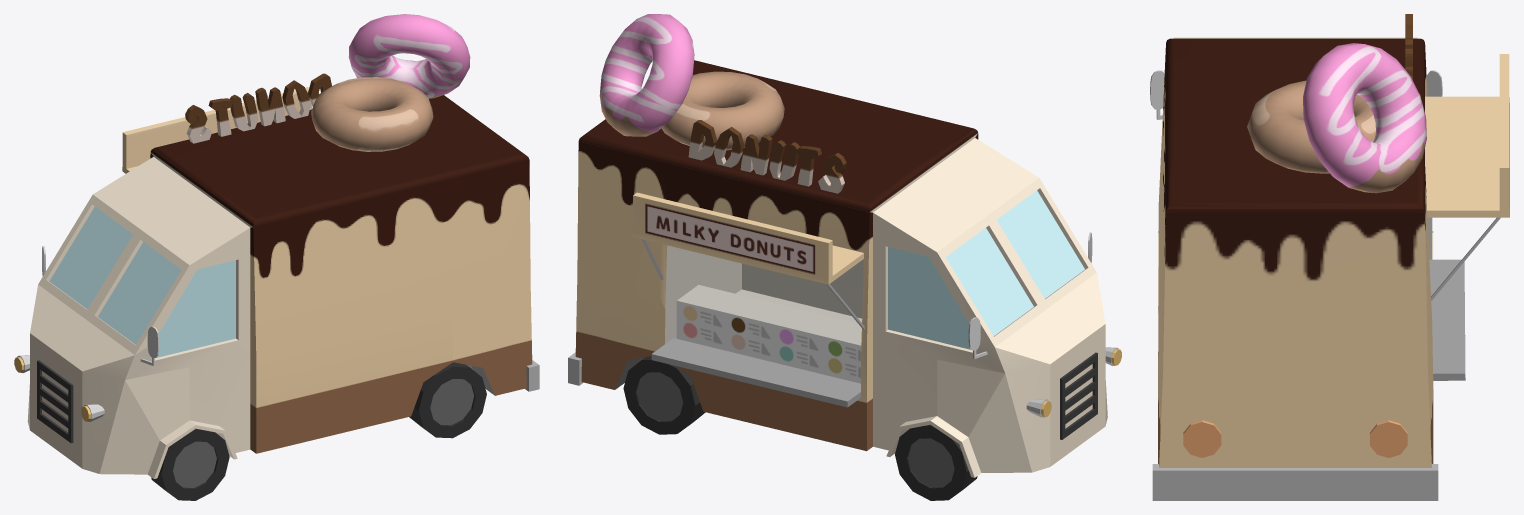
File: fbx_foodtruck_Donuts.fbx
The picture shows the model from 3 angles, left to right: view 1: azimuth 30°, elevation 25°; view 2: azimuth 150°, elevation 25°; view 3: azimuth 270°, elevation 25°; orthographic projection. The views are drawn at different scales.
Visible parts, largest first — view 1: fbx_foodtruck_Donuts; view 2: fbx_foodtruck_Donuts; view 3: fbx_foodtruck_Donuts.
Part boxes in pixels (box(x1,y1,x2,y2)): fbx_foodtruck_Donuts: box(14, 14, 539, 500); fbx_foodtruck_Donuts: box(568, 14, 1121, 500); fbx_foodtruck_Donuts: box(1150, 14, 1509, 500).
Size of the model in its own units: 6.31 by 5.04 by 3.6.
Materials: 1 (1 with a texture image).
